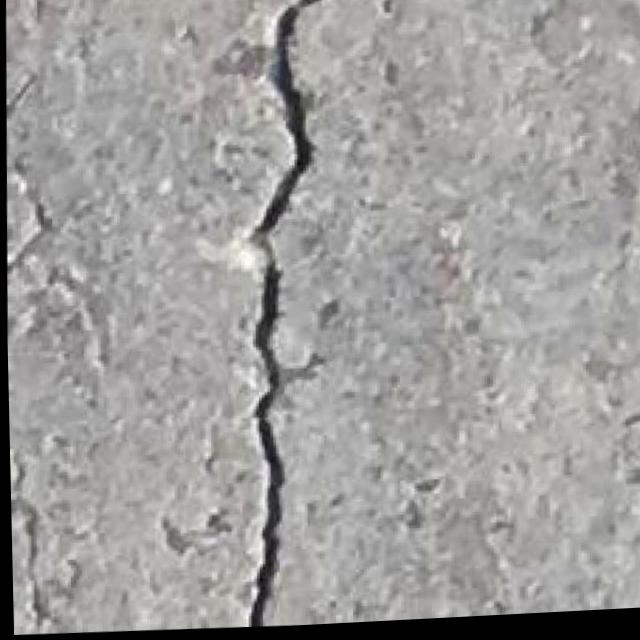Crack: (206, 0, 357, 632)
